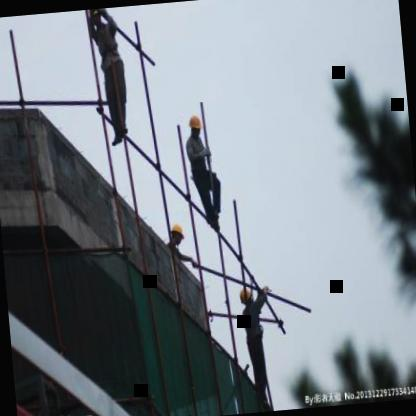helmet: (166, 221, 186, 249), (188, 112, 204, 142), (239, 286, 256, 308)
